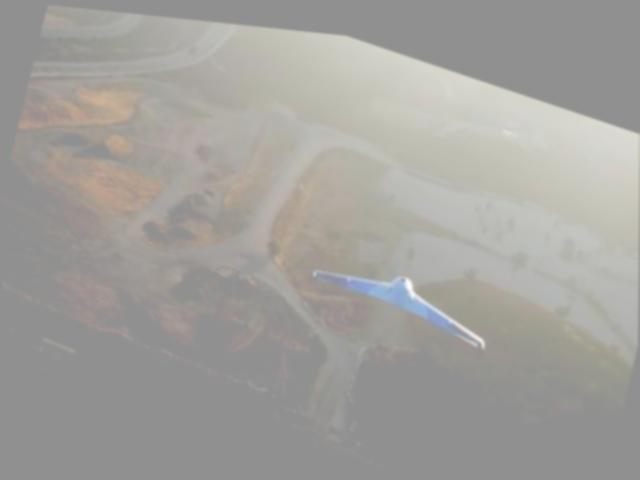iha: (305, 239, 494, 340)
